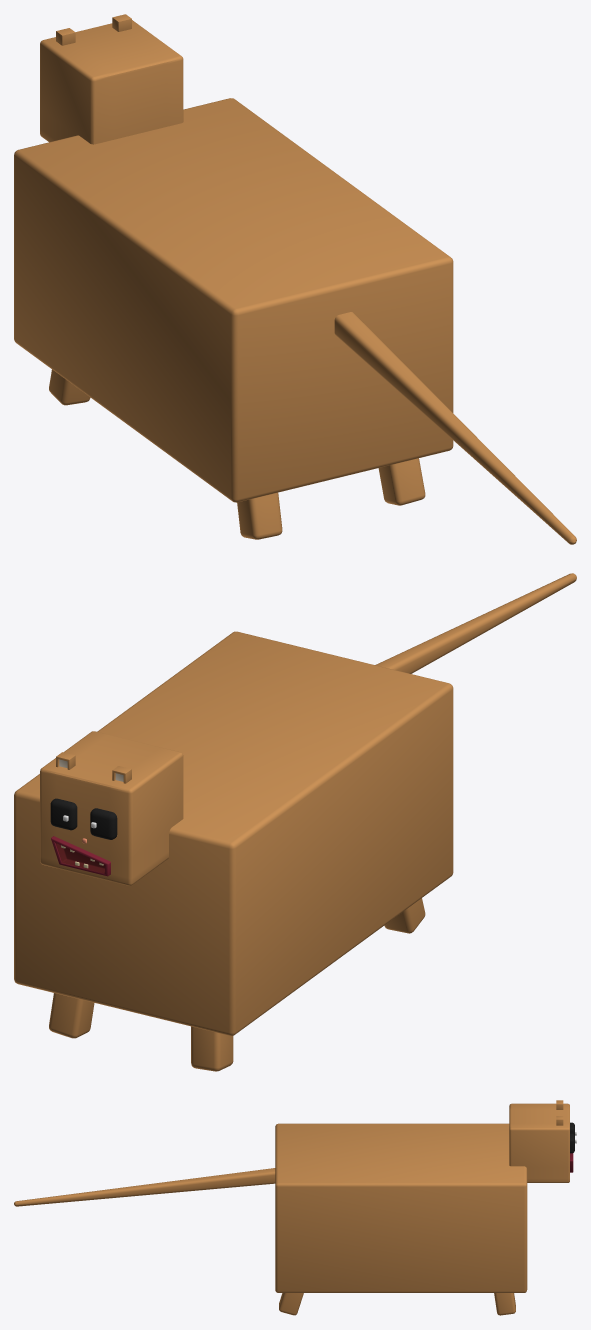
Rendered from SirWobble_1.fbx.
3 views of the same model, one above another, from view 1: azimuth 30°, elevation 25°; view 2: azimuth 150°, elevation 25°; view 3: azimuth 270°, elevation 25° (orthographic). The views are drawn at different scales.
Parts seen in each view (by area): view 1: Body, Head, Schwant, Leg_Back, Leg_Front; view 2: Body, Head, Schwant, Leg_Front, Eye_Big, Moth, Leg_Back; view 3: Body, Head, Schwant, Leg_Back, Leg_Front.
Boxes of the visible parts, x1,y1,x2,y2 form: Body: (14,98,453,502); Head: (40,20,183,144); Schwant: (334,312,576,544); Leg_Back: (237,458,425,539); Leg_Front: (49,369,90,405); Body: (14,631,453,1035); Head: (40,731,183,885); Schwant: (375,573,576,673); Leg_Front: (49,993,233,1071); Eye_Big: (50,798,117,839); Moth: (51,836,110,876); Leg_Back: (384,898,425,933); Body: (275,1123,527,1292); Head: (509,1103,569,1182); Schwant: (14,1168,275,1206); Leg_Back: (279,1293,303,1315); Leg_Front: (494,1293,515,1315).
Bounding box in the file's own units: 94.58 × 132 × 366.
